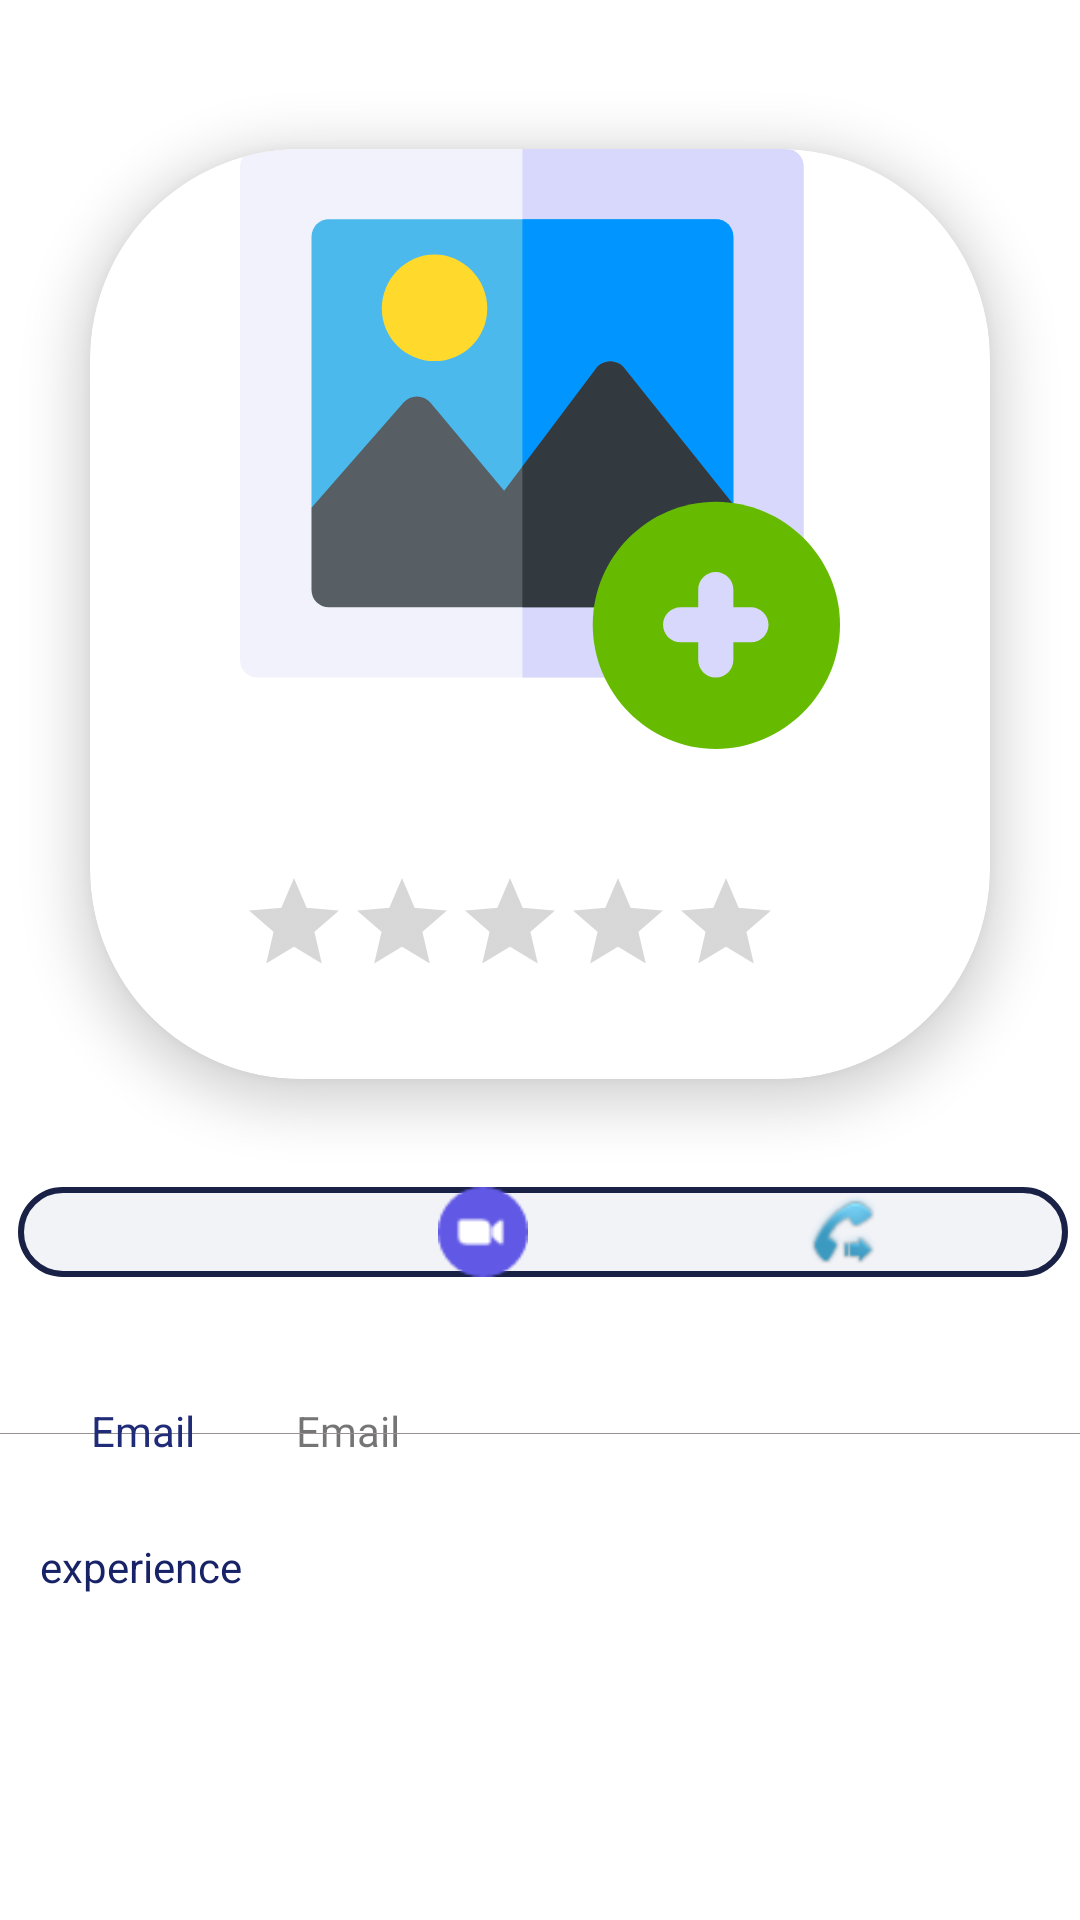

Named icons in this screenshot (1080*1920) and their centers, point (x, y):
videocall: point (483, 1232)
